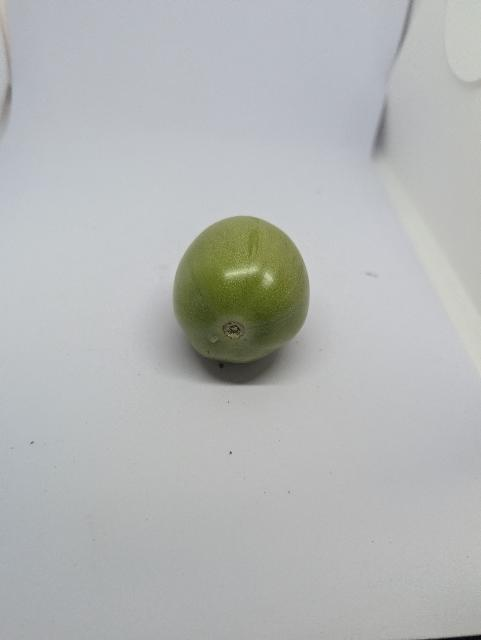green: (170, 212, 314, 367)
